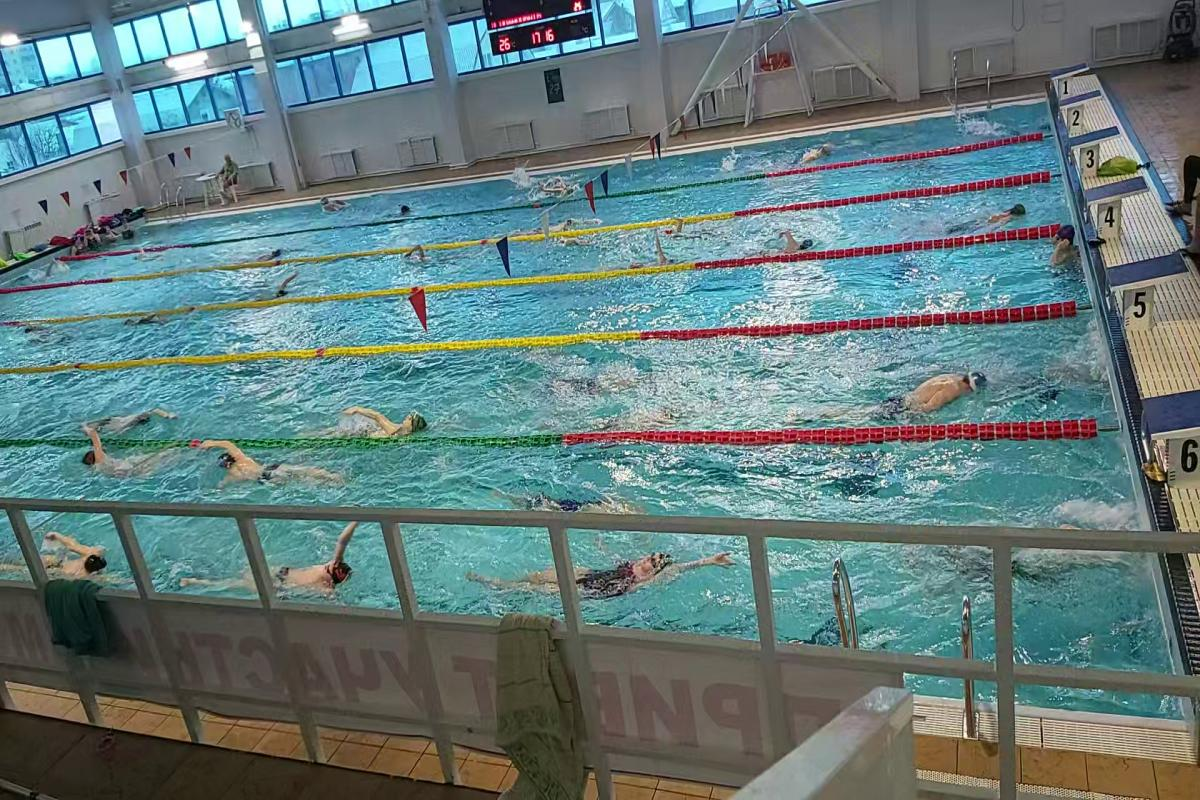swimmer: (479, 544, 736, 602), (177, 527, 369, 598), (873, 351, 1003, 423), (194, 435, 344, 490), (328, 388, 449, 439), (74, 432, 172, 487), (492, 480, 640, 512), (42, 527, 122, 583), (82, 402, 184, 429), (983, 192, 1035, 233), (772, 224, 824, 255), (121, 312, 177, 334), (1053, 222, 1075, 277), (640, 237, 684, 264), (261, 274, 309, 295), (400, 247, 438, 265)
